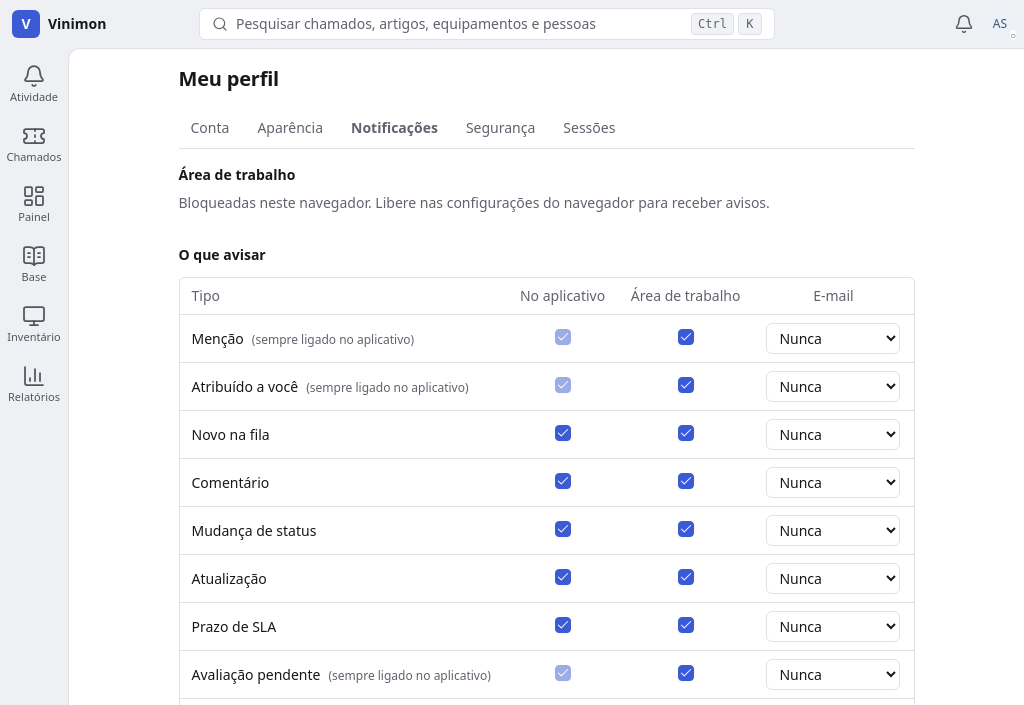
it: /perfil/notificacoes › desligar o aviso no aplicativo desliga o da área de trabalho
The width and height of the screenshot is (1024, 705).
Step 1. Click the checkbox named "Comentário, no aplicativo" → (563, 480), box [555,472,571,488]
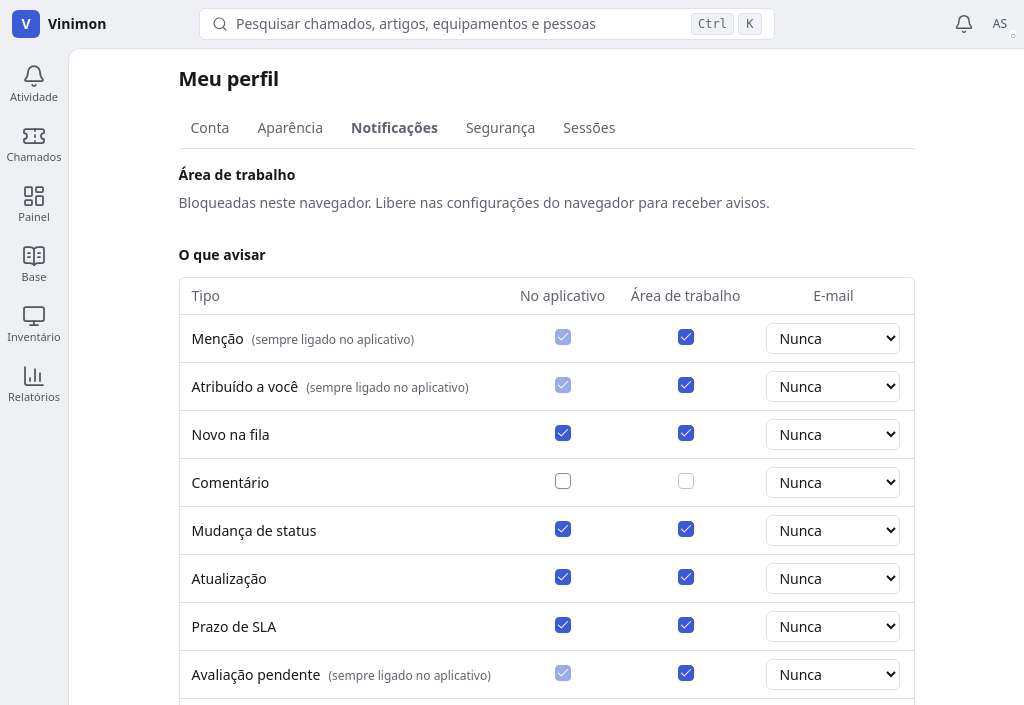
Check: the checkbox named "Comentário, na área de trabalho" is not checked, box [678,472,694,488]
Check: the checkbox named "Comentário, na área de trabalho" is disabled, box [678,472,694,488]
